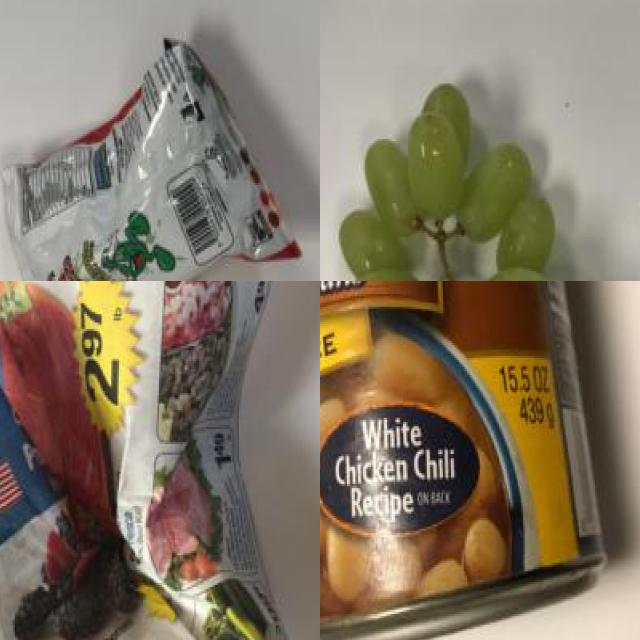compost: (320, 63, 623, 281)
paper: (0, 281, 309, 640)
plastic: (320, 281, 611, 640)
trash: (0, 39, 311, 281)
